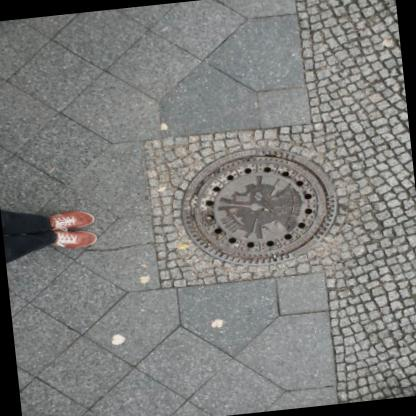manholes: (154, 119, 363, 292)
